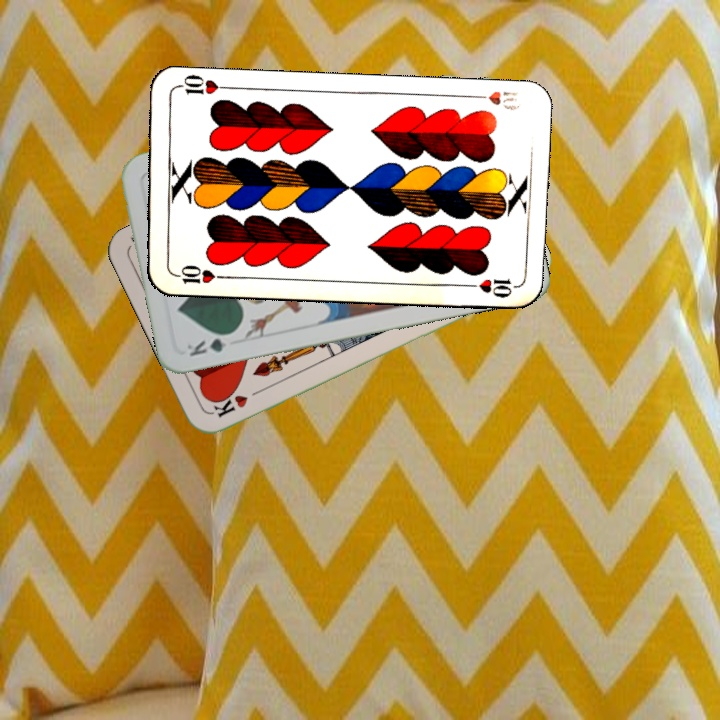GK: (183, 328, 239, 359)
H10: (466, 87, 524, 114), (169, 260, 228, 286)
HK: (208, 384, 265, 420)
